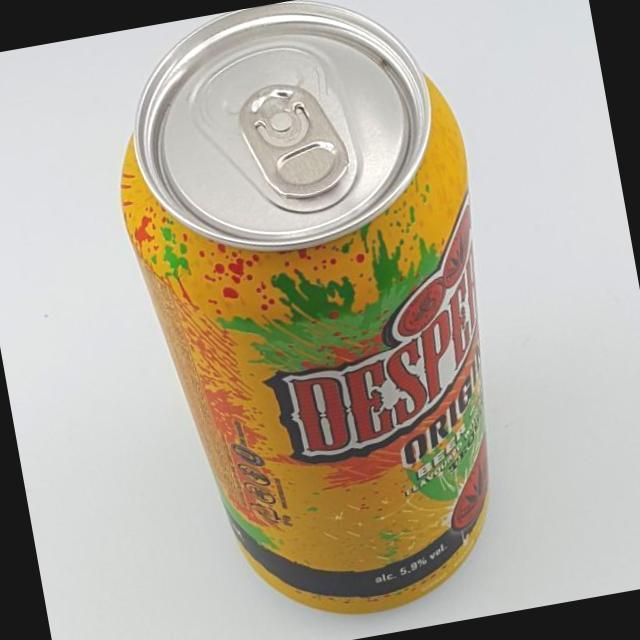can: (81, 0, 545, 640)
